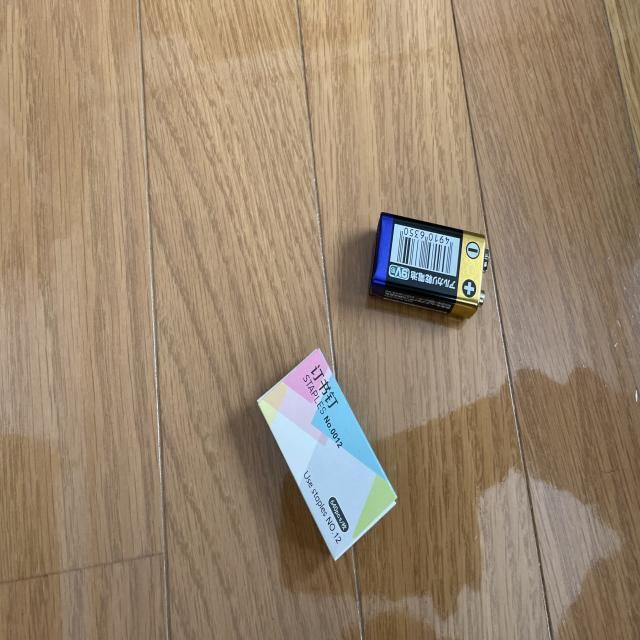9V: (369, 213, 490, 314)
